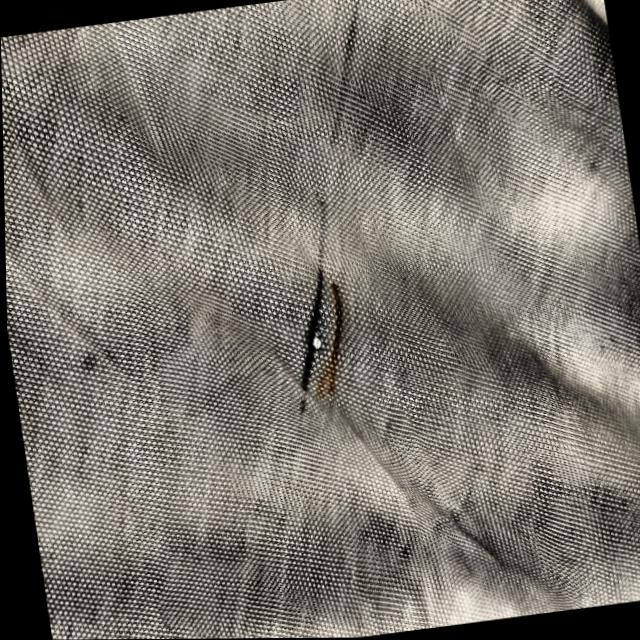Hole: (310, 337, 320, 351)
Stitch: (294, 272, 328, 337), (301, 344, 313, 377)
